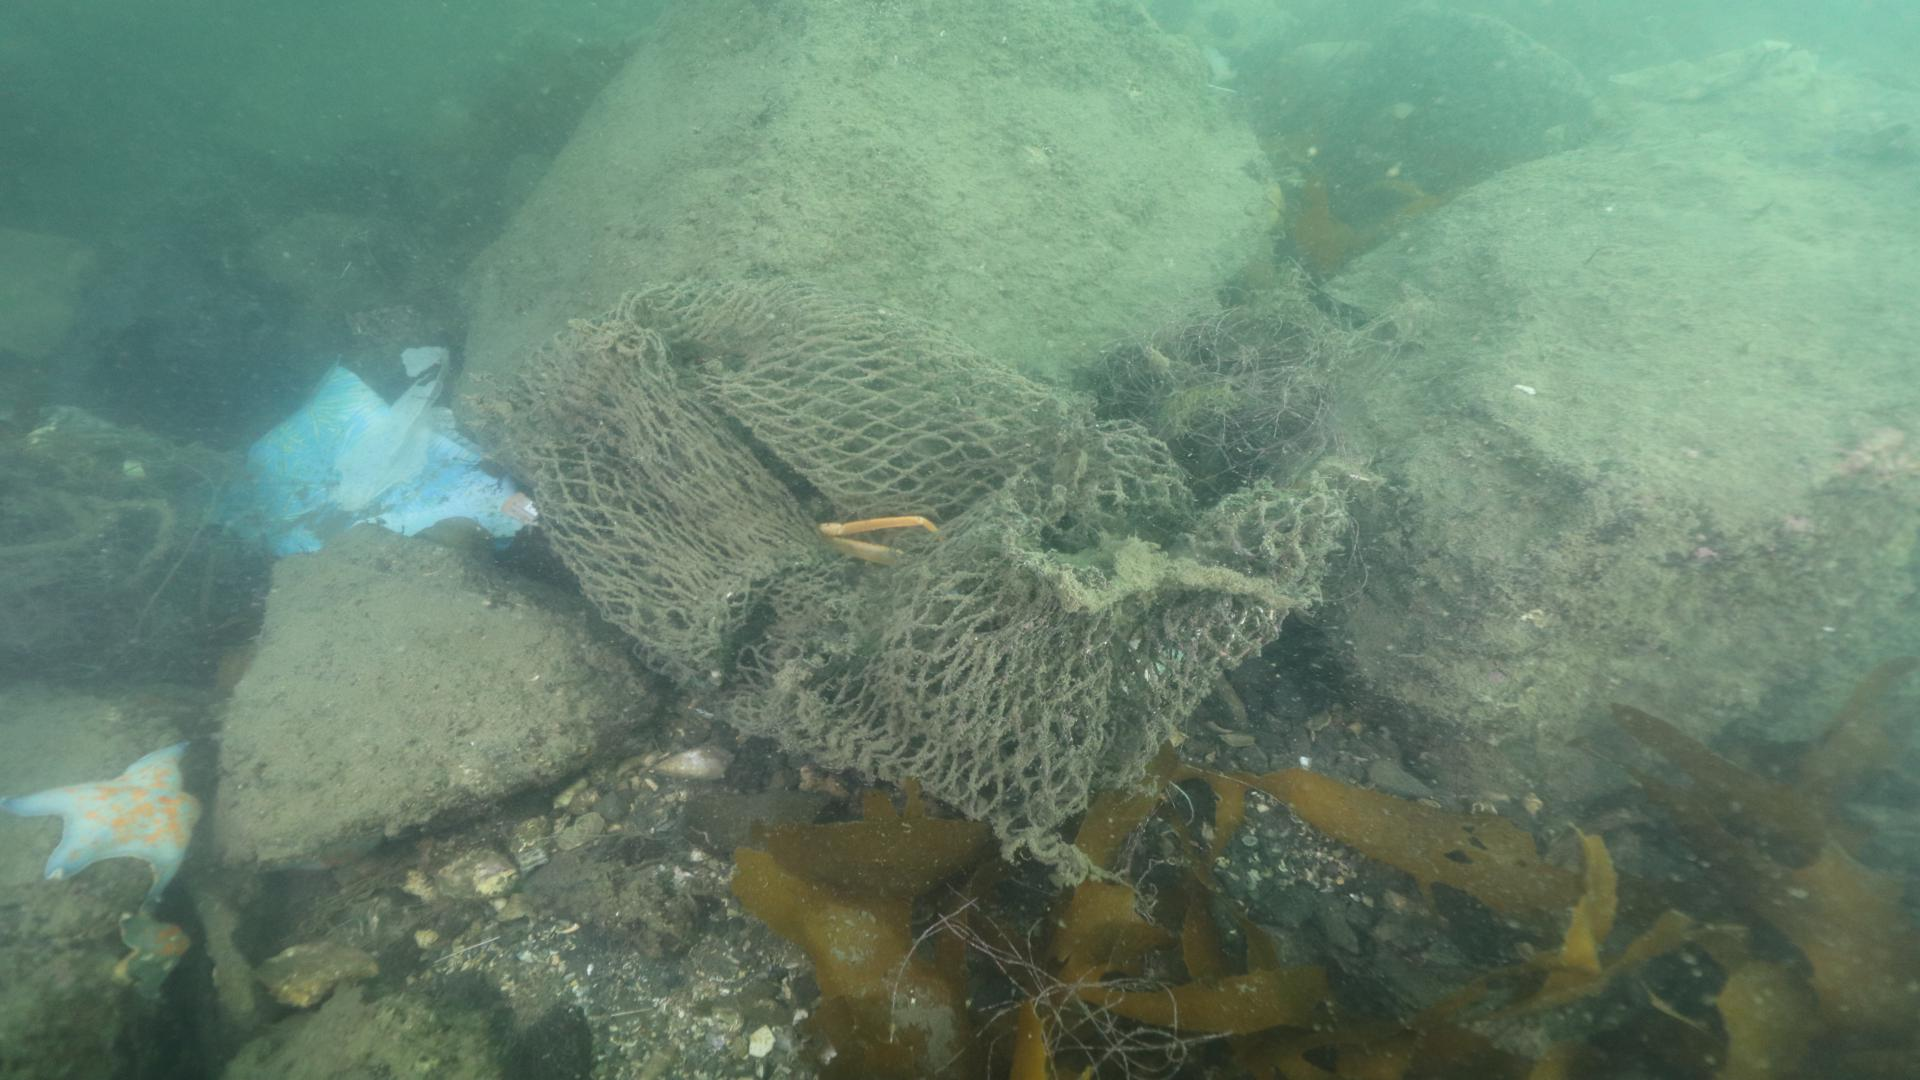fish net: (501, 277, 1344, 864)
